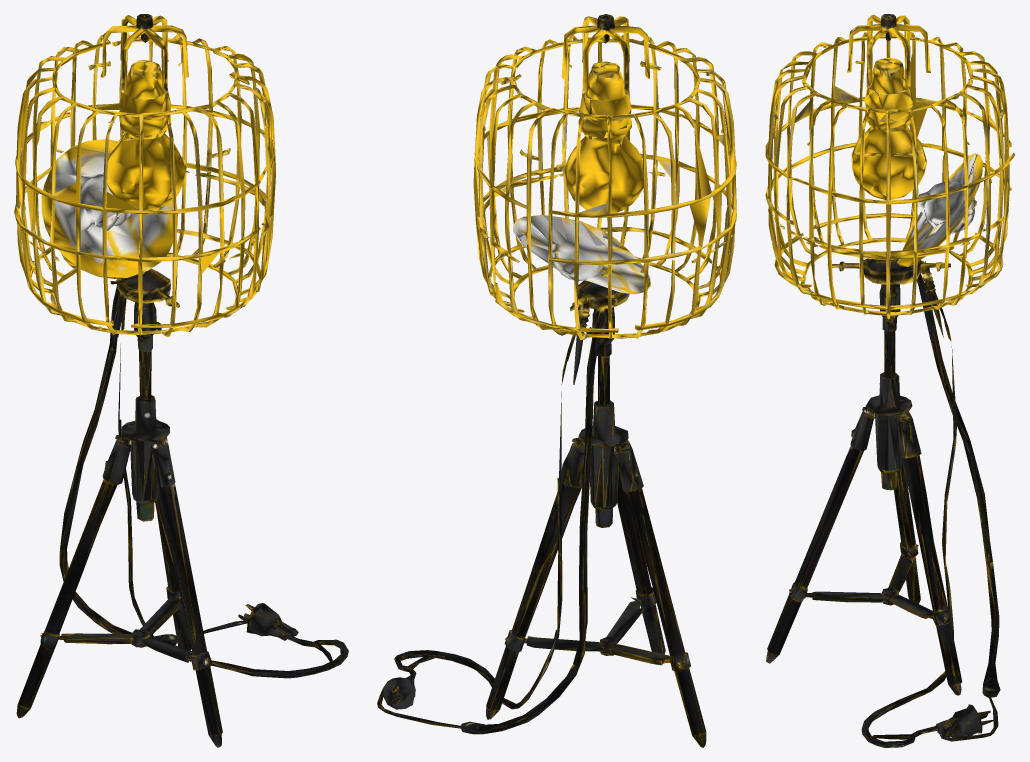
The model's file is lamp.glb.
3 views of the same model, side by side, from view 1: azimuth 30°, elevation 25°; view 2: azimuth 150°, elevation 25°; view 3: azimuth 270°, elevation 25° (orthographic). The views are drawn at different scales.
Visible parts, largest first — view 1: lamp; view 2: lamp; view 3: lamp.
Boxes of the visible parts, <box> form: lamp: <box>14,14,348,747</box>; lamp: <box>377,14,736,747</box>; lamp: <box>765,14,1015,747</box>.
Bounding box in the file's own units: 0.8684 × 1.8 × 0.6313.
Materials: 1 (1 with a texture image).
